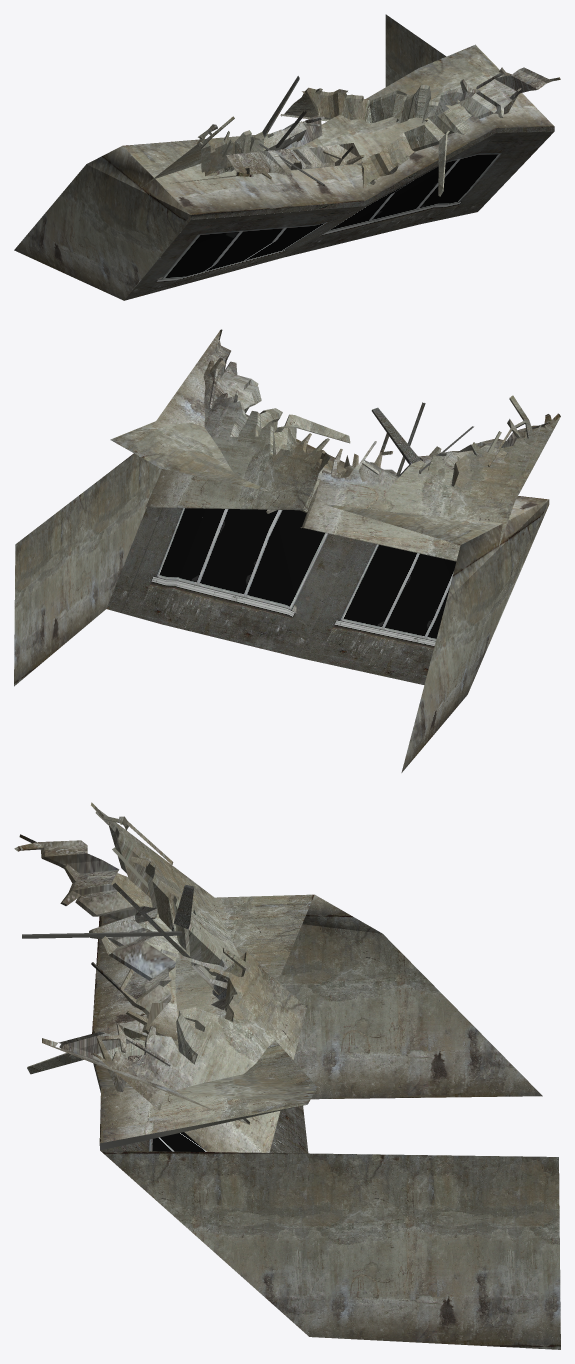
Rendered from Ruin_Collapsed_01.fbx.
The picture shows the model from 3 angles, top to bottom: view 1: azimuth 30°, elevation 25°; view 2: azimuth 150°, elevation 25°; view 3: azimuth 270°, elevation 25°; orthographic projection. The views are drawn at different scales.
Parts seen in each view (by area): view 1: Ruin_Collapsed_01_Part0_plasterwall021a, Ruin_Collapsed_01_Part1_CollapsedBuilding02a; view 2: Ruin_Collapsed_01_Part0_plasterwall021a, Ruin_Collapsed_01_Part1_CollapsedBuilding02a; view 3: Ruin_Collapsed_01_Part0_plasterwall021a, Ruin_Collapsed_01_Part1_CollapsedBuilding02a.
Boxes of the visible parts, x1=… form: Ruin_Collapsed_01_Part0_plasterwall021a: x1=14, y1=14, x2=560, y2=300; Ruin_Collapsed_01_Part1_CollapsedBuilding02a: x1=124, y1=76, x2=554, y2=300; Ruin_Collapsed_01_Part0_plasterwall021a: x1=14, y1=329, x2=560, y2=772; Ruin_Collapsed_01_Part1_CollapsedBuilding02a: x1=106, y1=402, x2=473, y2=684; Ruin_Collapsed_01_Part0_plasterwall021a: x1=14, y1=802, x2=560, y2=1349; Ruin_Collapsed_01_Part1_CollapsedBuilding02a: x1=22, y1=883, x2=308, y2=1153.
Size of the model in its own units: 1.66 by 1.02 by 1.52.
